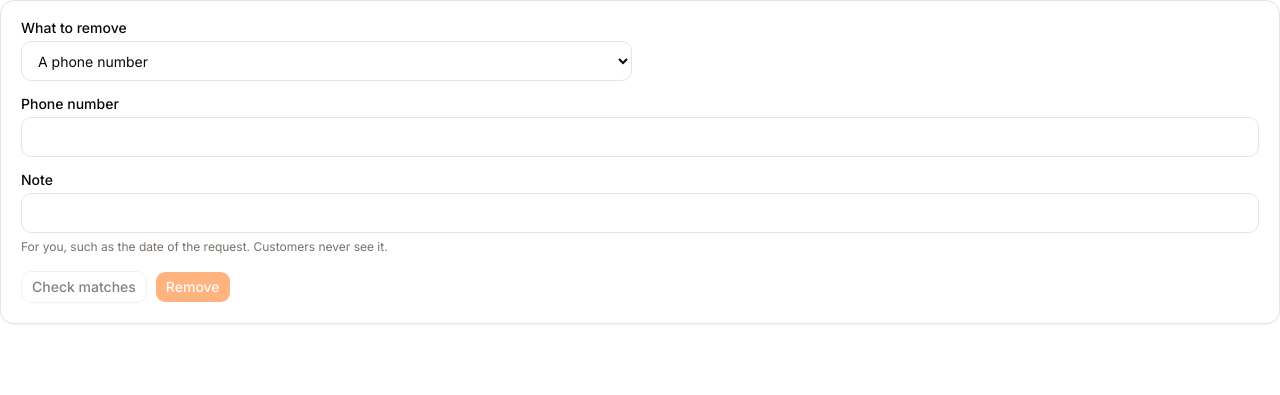
RemovalForm › gives the general message for a refusal that is not about the value
Type "(480) 555-0142" into the field labelled "Phone number" at (640, 137), box top-left (21, 117), bottom-right (1259, 157)
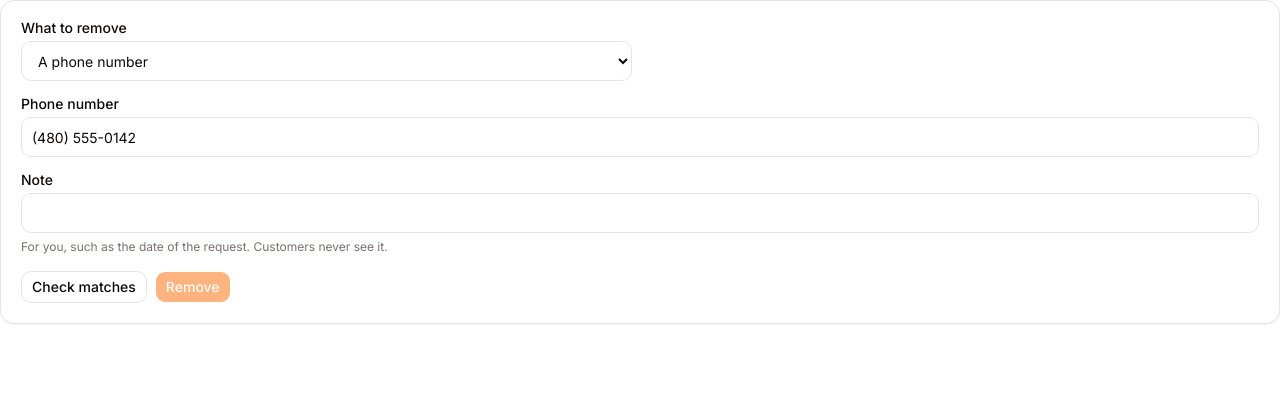
Click the button "Check matches" at (84, 287), box top-left (21, 271), bottom-right (147, 303)
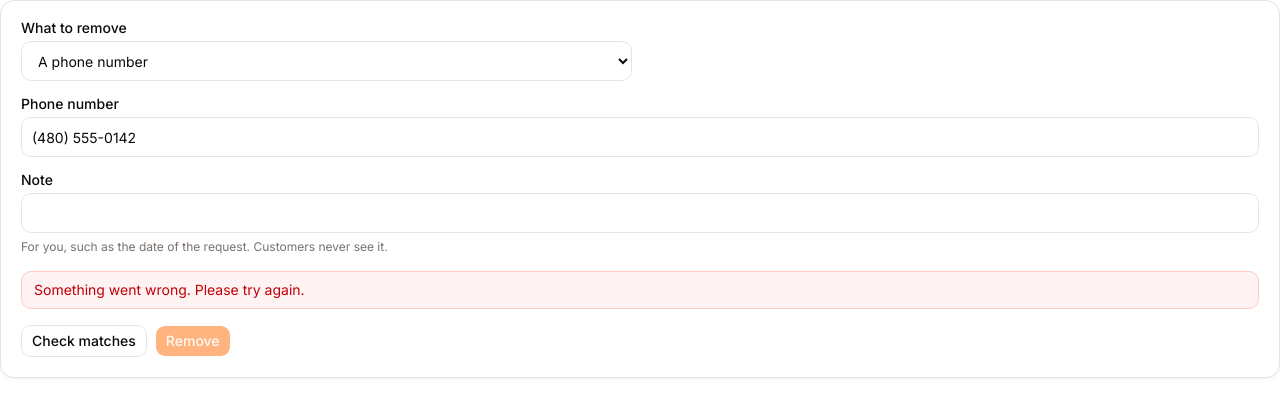
expect the message reads "Something went wrong. Please try again.": met, box top-left (34, 281), bottom-right (305, 298)
